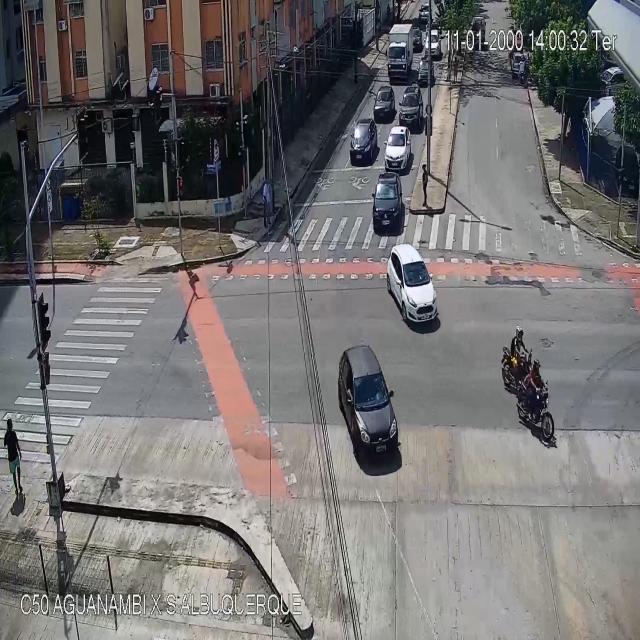Car: (338, 345, 398, 457), (387, 243, 439, 329), (372, 175, 403, 232), (384, 124, 409, 176), (348, 120, 376, 163), (399, 88, 423, 127), (373, 86, 395, 118), (418, 57, 436, 89), (412, 17, 426, 53), (425, 31, 442, 57), (511, 53, 526, 76), (418, 3, 431, 20)
Motorcycle: (518, 358, 554, 442), (499, 325, 532, 393), (518, 57, 526, 80)
Truck: (386, 24, 413, 82), (469, 14, 486, 46)
